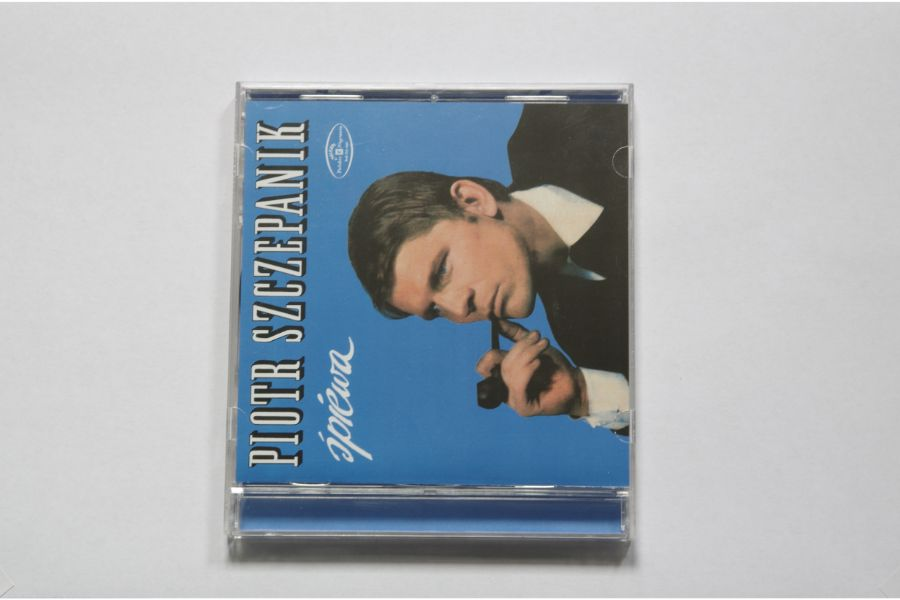album: (224, 72, 635, 545)
